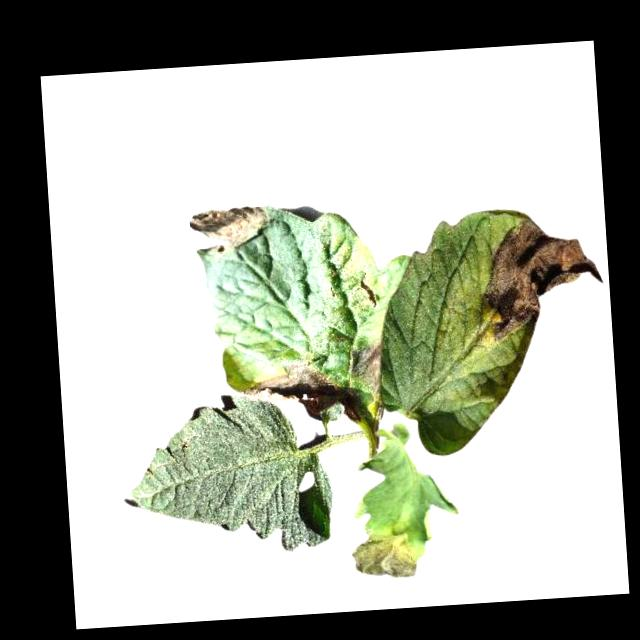Late_blight: (476, 214, 601, 347), (239, 359, 337, 423), (188, 204, 270, 254), (349, 525, 419, 580), (346, 336, 391, 399)
healthy: (124, 390, 336, 561)
